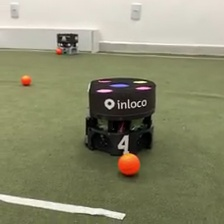ball: (116, 151, 142, 178), (19, 73, 32, 86), (55, 46, 63, 55)
goal: (1, 26, 101, 54)
robot: (81, 74, 159, 158), (54, 30, 78, 56)
